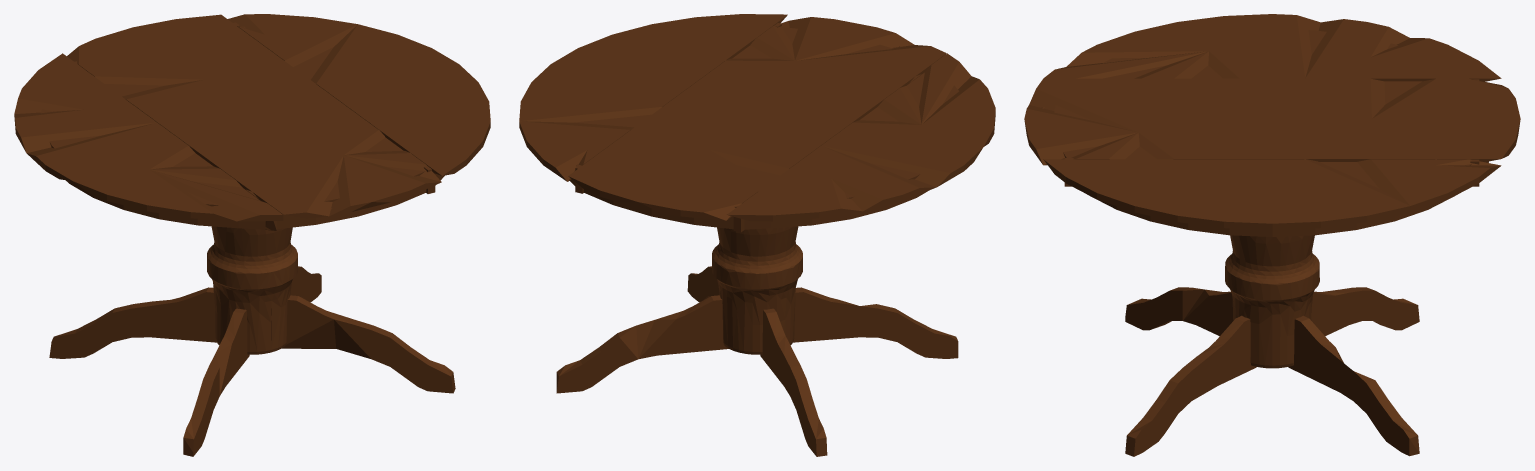
The model's file is table.FBX.
The picture shows the model from 3 angles, left to right: view 1: azimuth 30°, elevation 25°; view 2: azimuth 150°, elevation 25°; view 3: azimuth 270°, elevation 25°; orthographic projection. The views are drawn at different scales.
Visible parts, largest first — view 1: Circle, Cube, Circle.001; view 2: Circle, Cube, Circle.001; view 3: Circle, Cube, Circle.001.
Boxes of the visible parts, bbox=[...] form: Circle: bbox=[14, 14, 490, 230]; Cube: bbox=[49, 266, 455, 456]; Circle.001: bbox=[207, 226, 297, 354]; Circle: bbox=[519, 14, 995, 232]; Cube: bbox=[556, 266, 958, 456]; Circle.001: bbox=[712, 226, 802, 354]; Circle: bbox=[1024, 14, 1520, 236]; Cube: bbox=[1125, 287, 1419, 456]; Circle.001: bbox=[1225, 235, 1319, 368].
Bounding box in the file's own units: 157 × 94.15 × 157.
